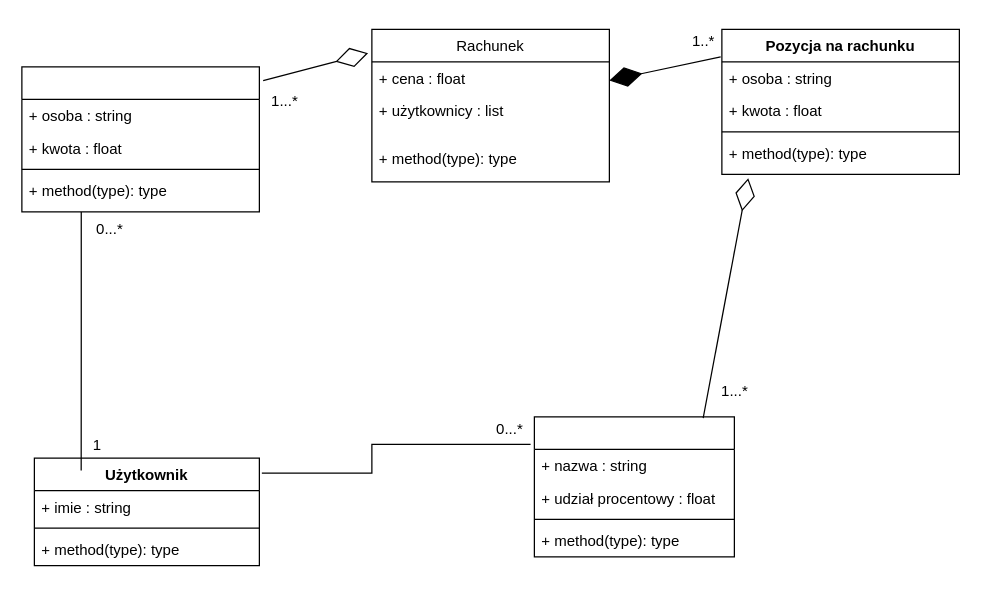
The diagram is 981 pixels wide and 591 high, and some of its shapes have lost their labels. The shapes that lost their labels are listed below. From the top down, each one's box as (x1, y1, x2, y2) in pixels, then its label:
(21, 66, 259, 212): Koszt na osobę
(533, 416, 734, 557): Udział w pozycji
